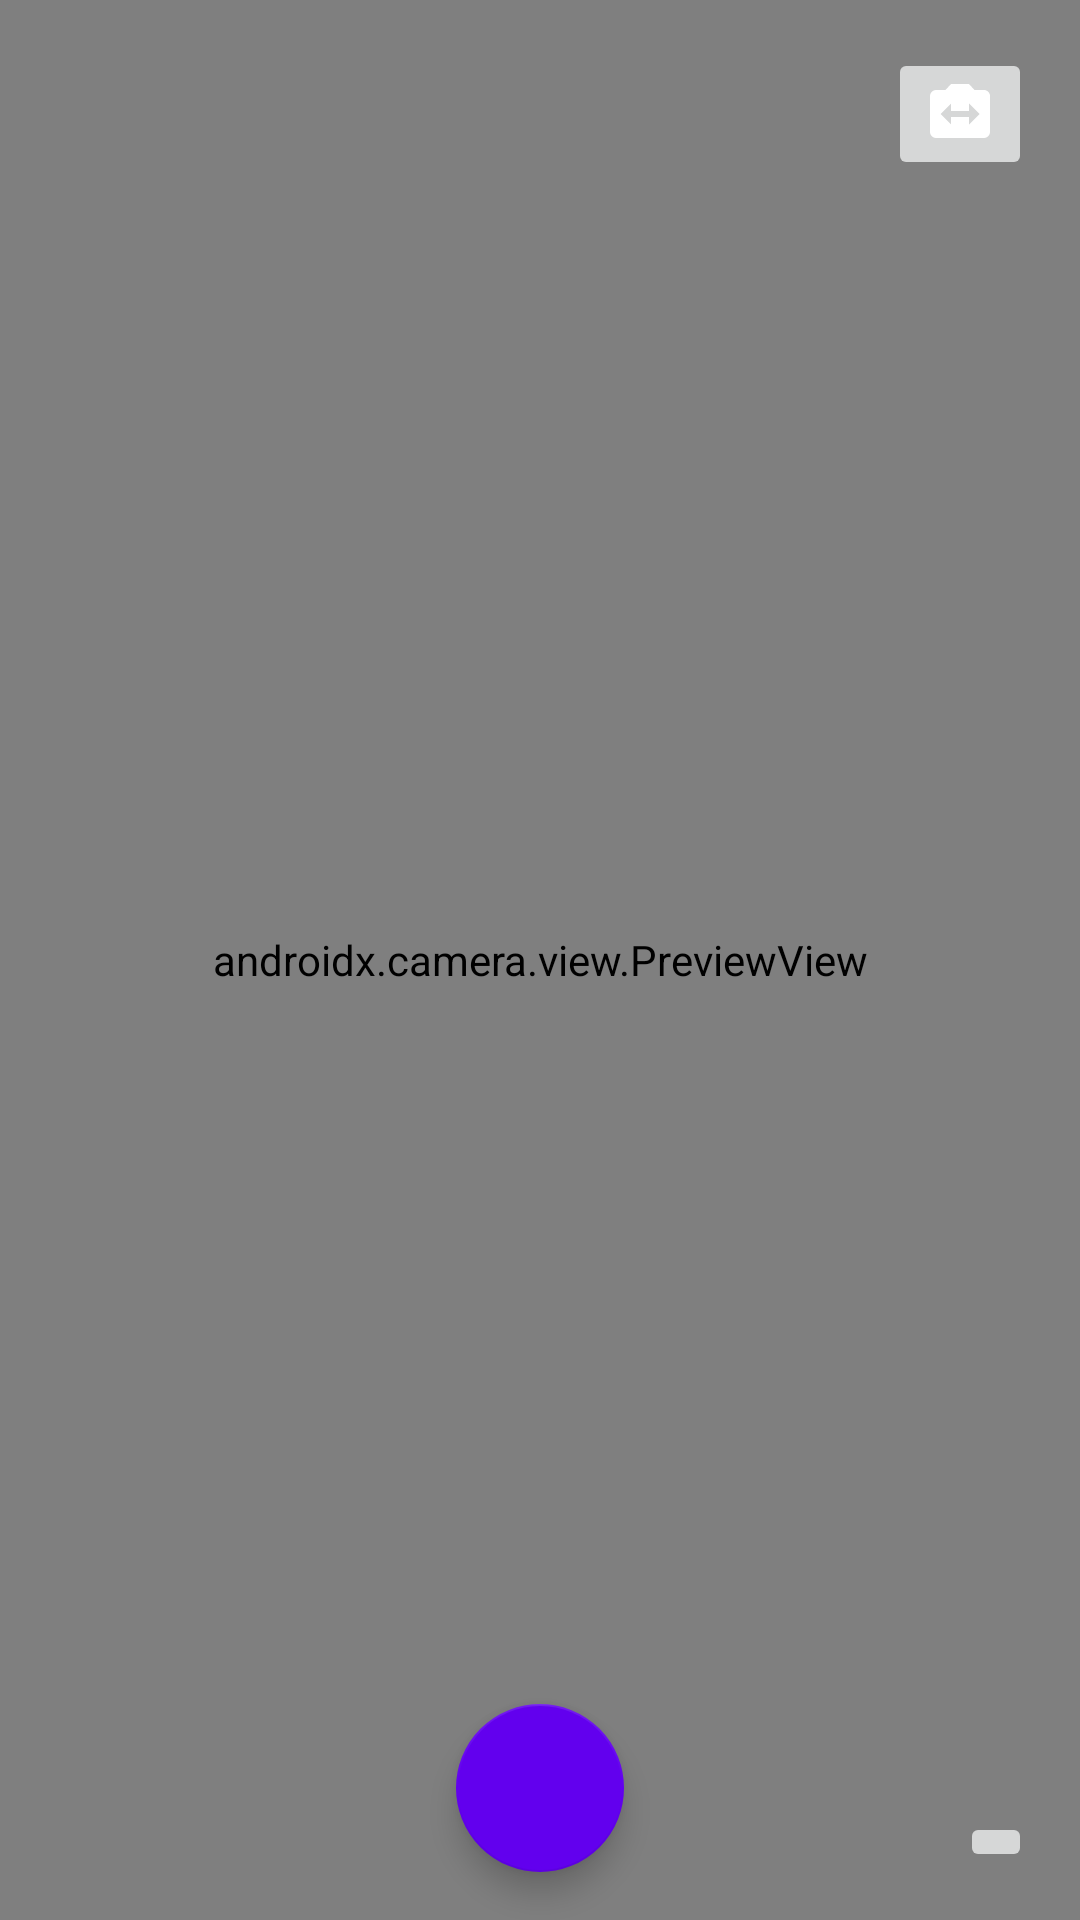

Icons on this 1080x1920 Android screen, each with its box as bbox=(x1, y1, x2, y2):
camera switch: bbox=(900, 66, 1020, 162)
